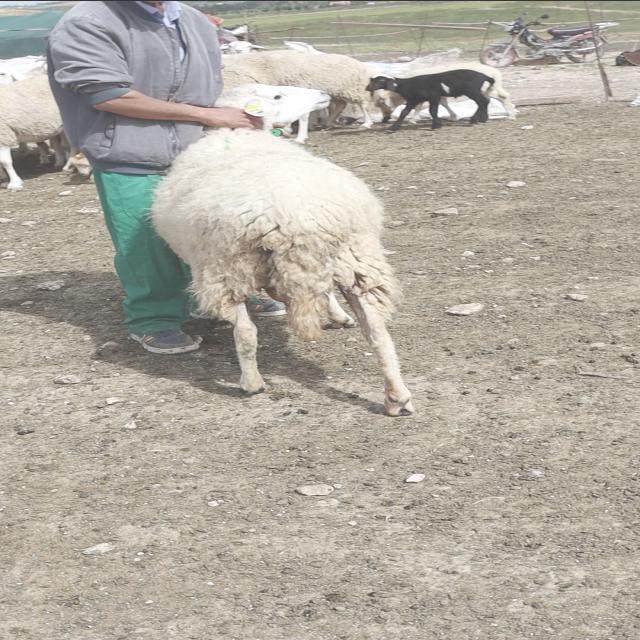Score_4: (152, 82, 414, 415)
